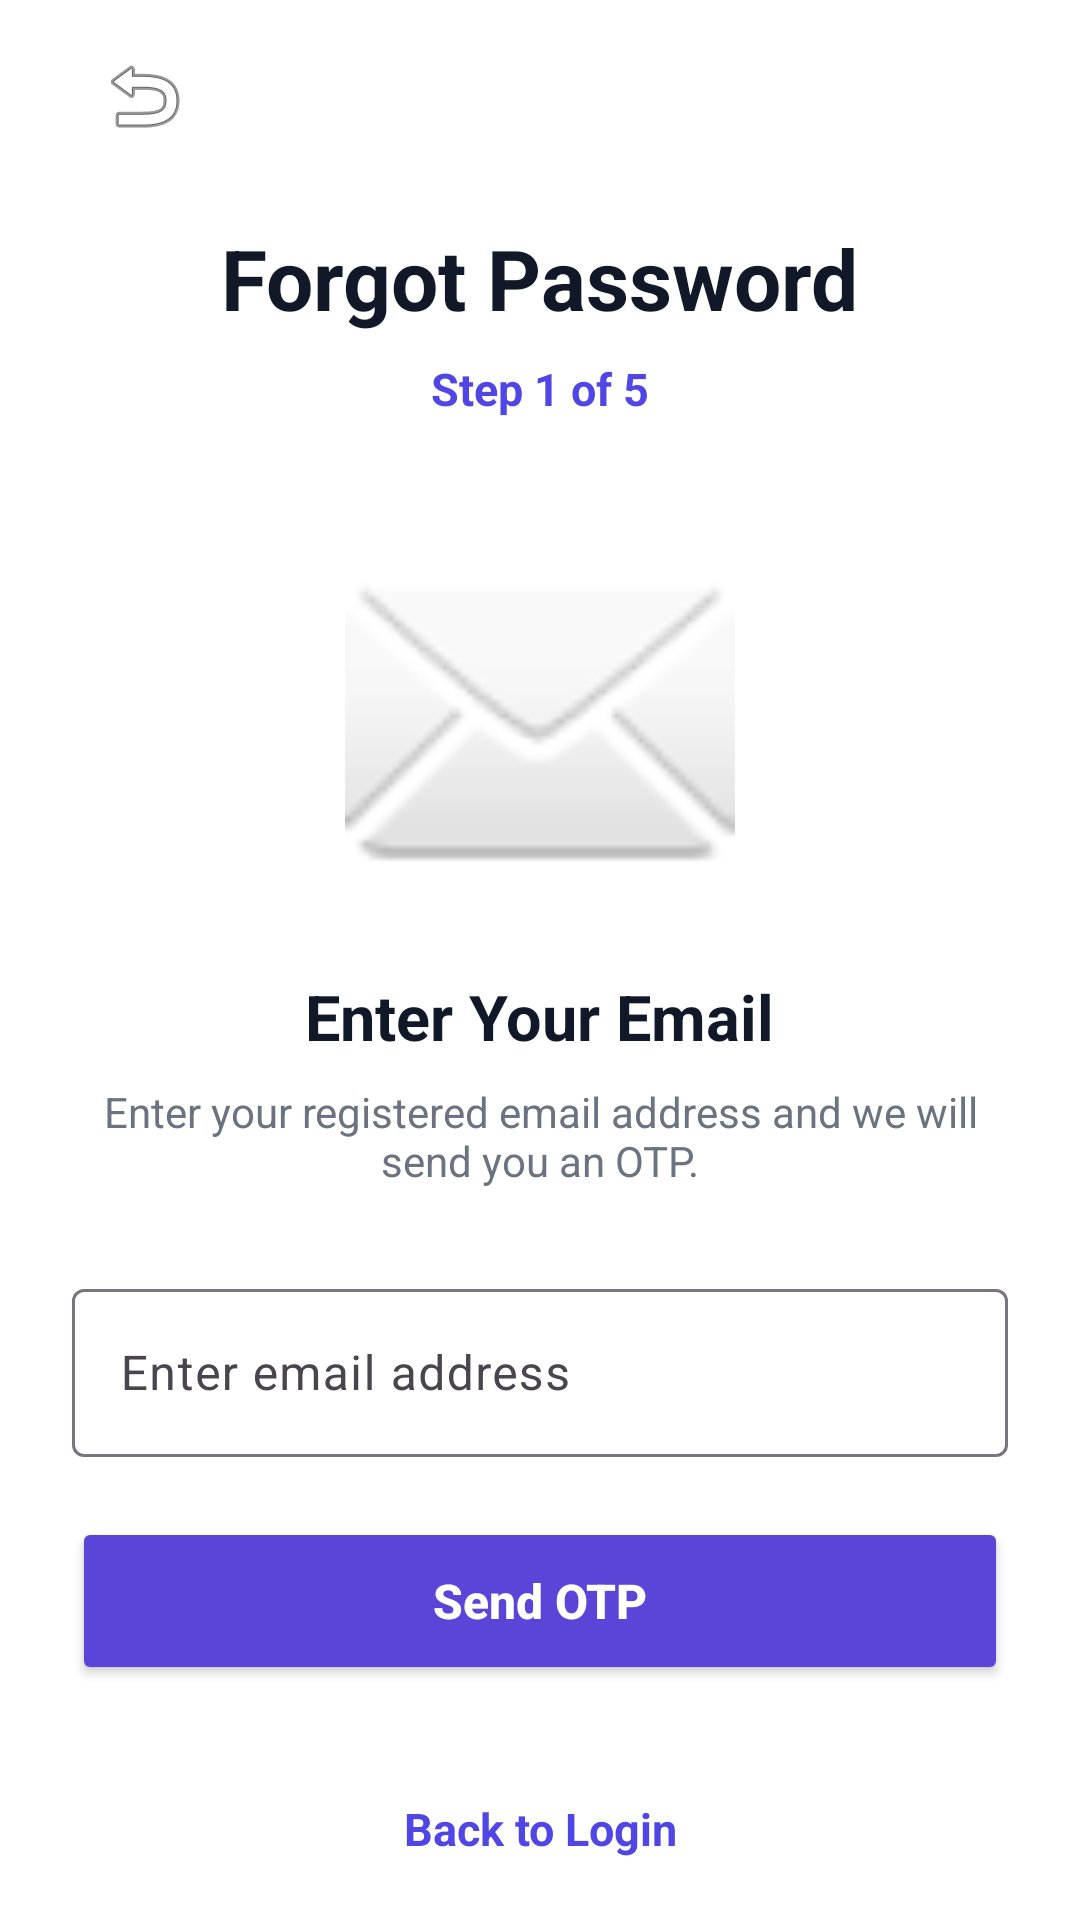

Where to tap for icons on this 1080w x 1920h app screen, as [x,y]:
Back: [145,96]
